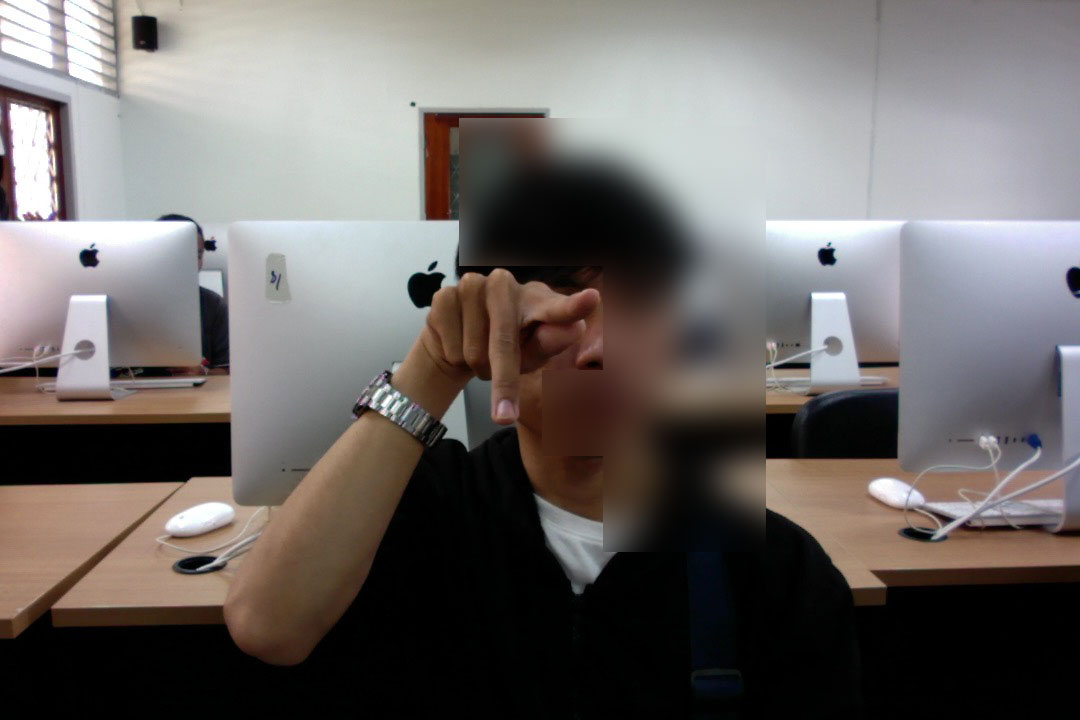por: (416, 259, 604, 432)
